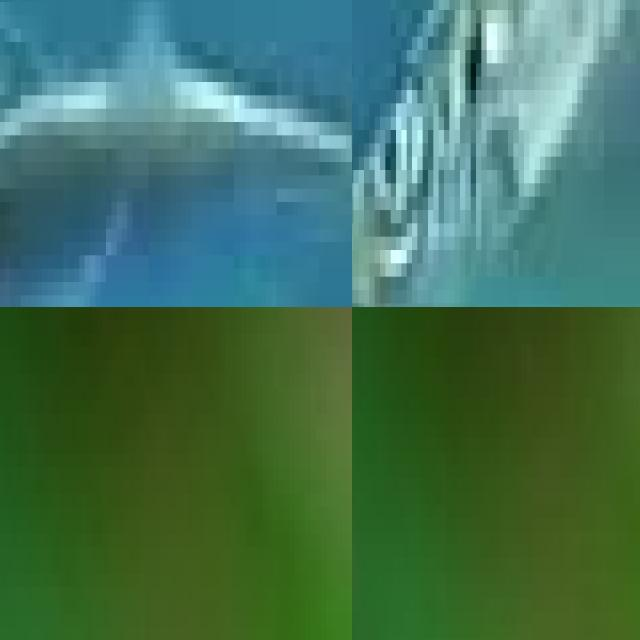fish: (0, 0, 352, 307), (352, 0, 640, 307)
